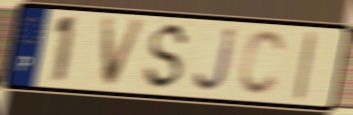1: (51, 14, 80, 85)
C: (237, 28, 288, 99)
I: (292, 29, 319, 103)
J: (192, 25, 239, 96)
S: (140, 20, 193, 93)
V: (100, 17, 150, 90)
